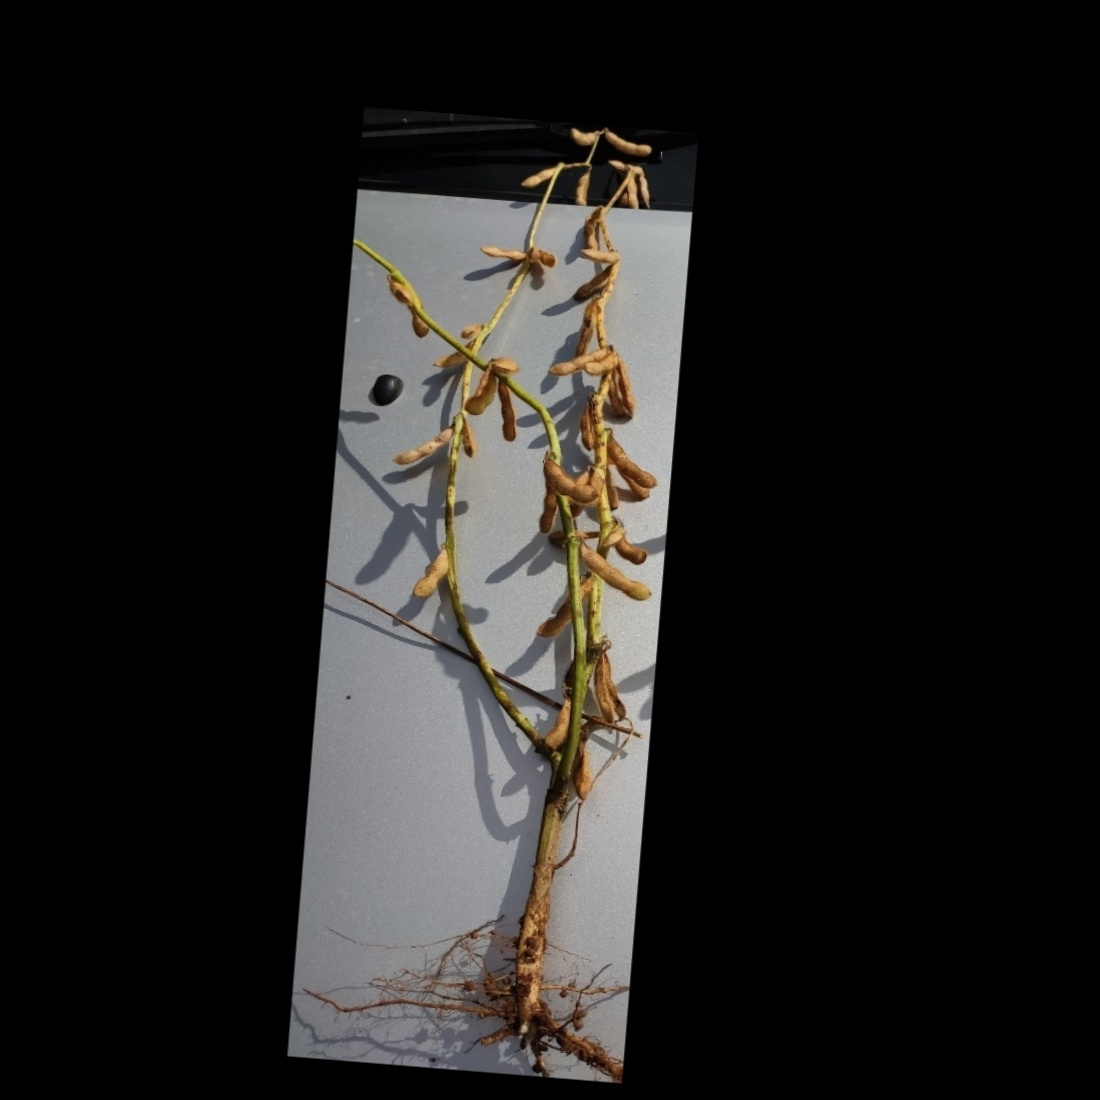pod: (575, 543, 655, 602), (604, 428, 666, 491), (387, 414, 453, 470), (540, 456, 602, 505), (545, 336, 610, 380), (488, 376, 522, 453), (594, 122, 659, 162), (410, 544, 450, 606), (544, 693, 575, 752), (517, 161, 562, 191), (477, 241, 530, 266), (568, 245, 621, 267), (568, 167, 592, 214)
soy: (312, 96, 695, 1047)
